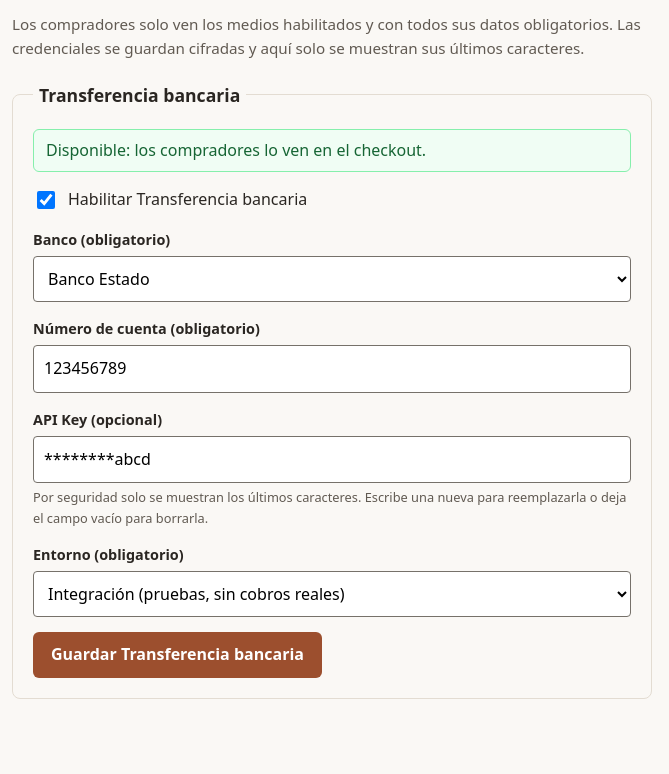
Test: GestorMediosPago › guarda los cambios correctamente mediante PUT
Replace the text in the field labelled "Número de cuenta (obligatorio)" with "987654321" at (332, 369), box [33,345,631,393]
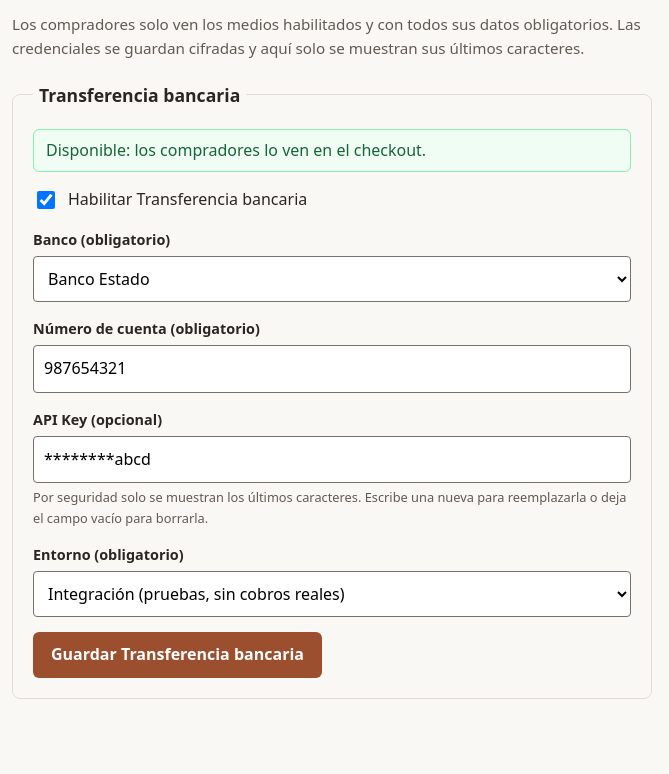
Click the button "Guardar Transferencia bancaria" at (178, 655), box [33,632,322,678]
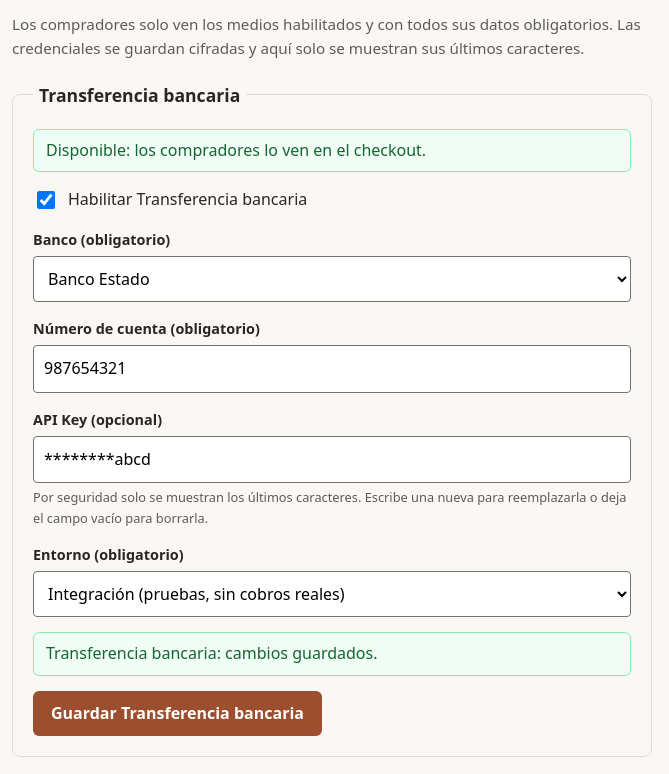
Expected: the message reads "Transferencia bancaria: cambios guardados.", [46,642,378,664]
